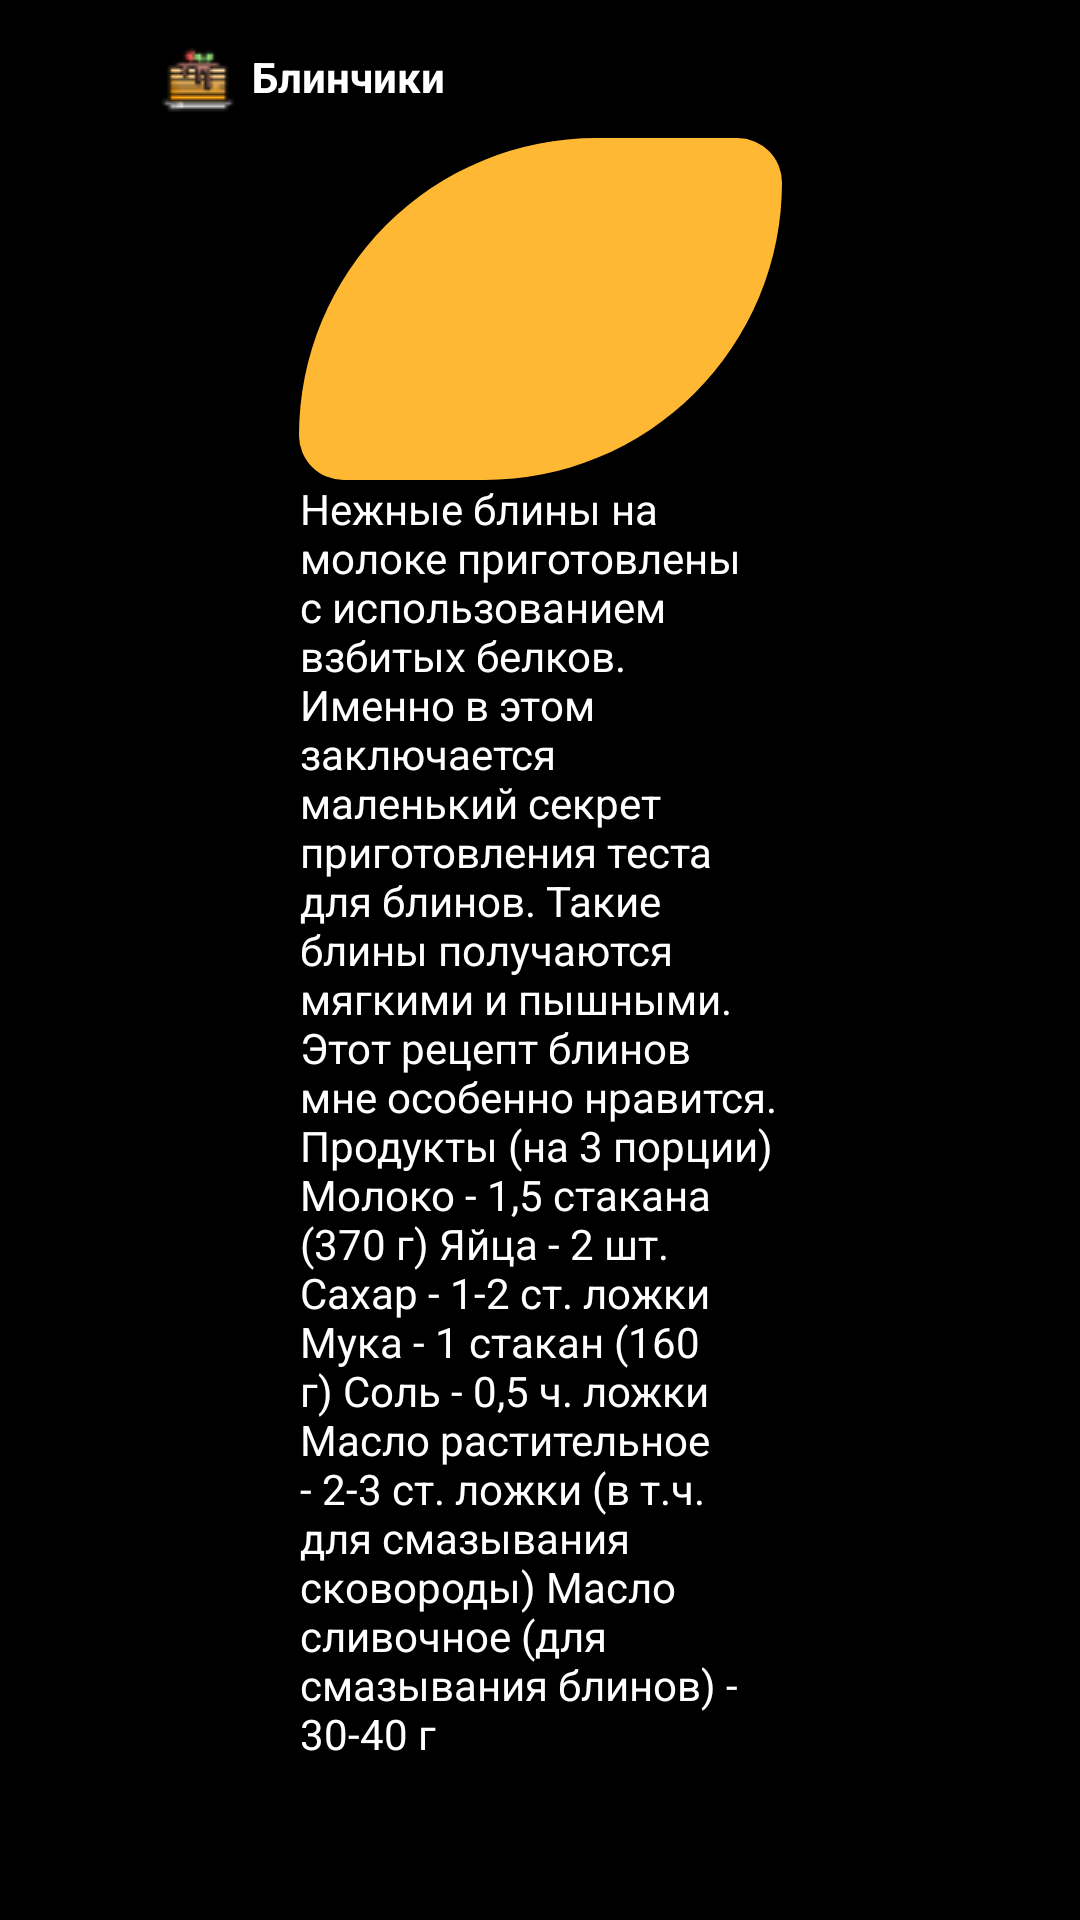

Where to tap for icons on this 1080w x 1920h app screen, as [x,y]:
pancakes: [198,80]
